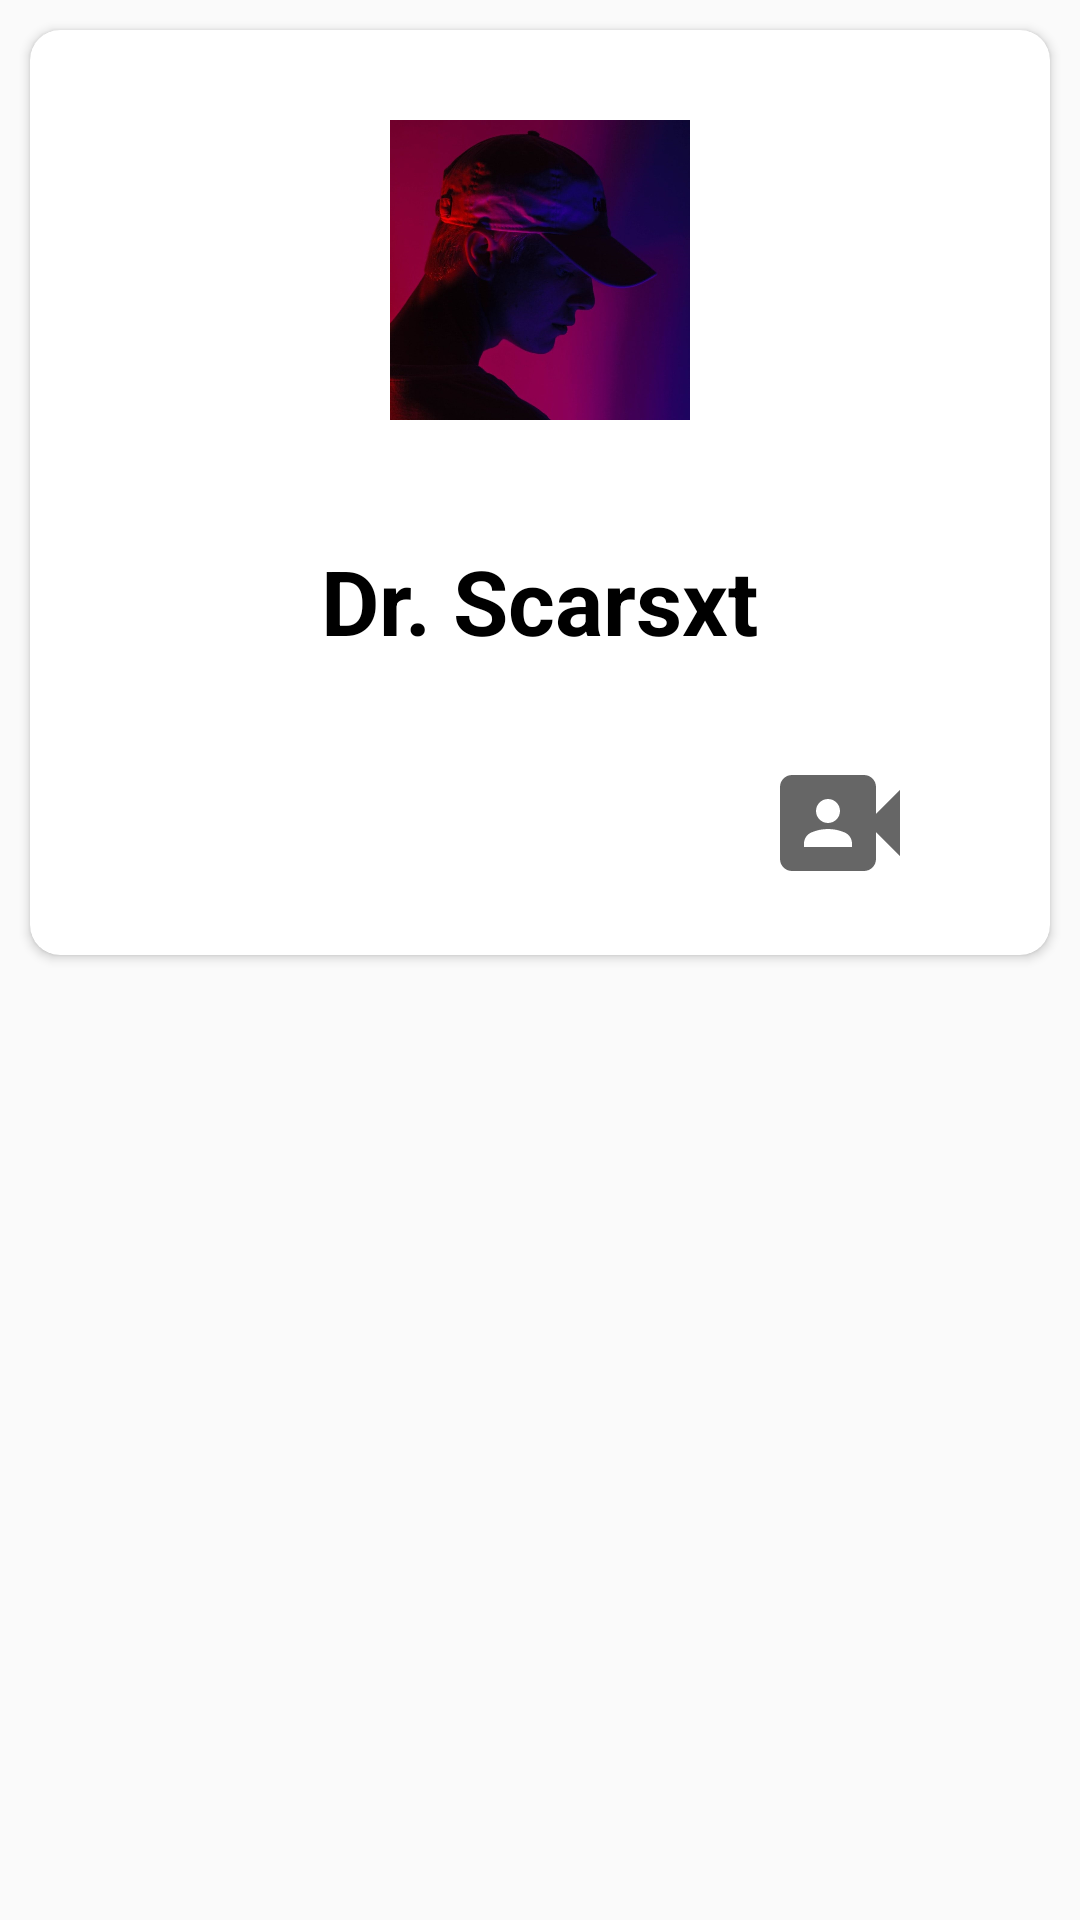

Point at icon controls on the screen. Image size 1080x1920, points as (x=x, y=y).
profileimg: (x=540, y=270)
video camera front: (x=840, y=823)
